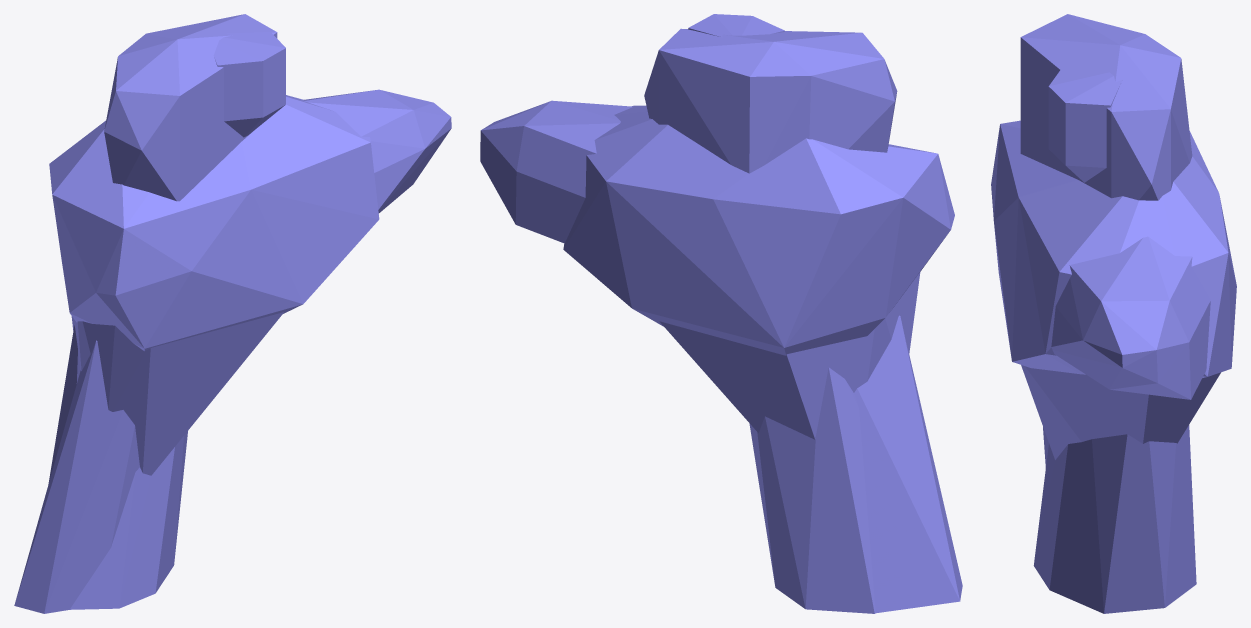
Rendered from Cliff_Spire_03_Collider_Arch_01.FBX.
3 renders of one model, left to right at view 1: azimuth 30°, elevation 25°; view 2: azimuth 150°, elevation 25°; view 3: azimuth 270°, elevation 25°, orthographic. The views are drawn at different scales.
Visible parts, largest first — view 1: COLLIDER3, COLLIDER5, COLLIDER2, COLLIDER7, COLLIDER1, COLLIDER4, COLLIDER6; view 2: COLLIDER3, COLLIDER5, COLLIDER1, COLLIDER2, COLLIDER7, COLLIDER4, COLLIDER6; view 3: COLLIDER3, COLLIDER1, COLLIDER5, COLLIDER4, COLLIDER7, COLLIDER6.
Boxes of the visible parts, <box> form: COLLIDER3: <box>49,95,379,351</box>; COLLIDER5: <box>104,14,277,201</box>; COLLIDER2: <box>14,340,139,613</box>; COLLIDER7: <box>71,312,283,475</box>; COLLIDER1: <box>48,325,187,609</box>; COLLIDER4: <box>304,89,451,213</box>; COLLIDER6: <box>213,32,285,137</box>; COLLIDER3: <box>563,105,954,355</box>; COLLIDER5: <box>644,28,897,173</box>; COLLIDER1: <box>749,367,875,613</box>; COLLIDER2: <box>854,315,962,613</box>; COLLIDER7: <box>659,272,920,439</box>; COLLIDER4: <box>480,100,633,243</box>; COLLIDER6: <box>688,14,784,37</box>; COLLIDER3: <box>991,120,1236,377</box>; COLLIDER1: <box>1033,425,1196,613</box>; COLLIDER5: <box>1020,14,1192,200</box>; COLLIDER4: <box>1051,236,1210,399</box>; COLLIDER7: <box>1021,365,1220,459</box>; COLLIDER6: <box>1048,65,1122,182</box>.
Size of the model in its own units: 534 by 589 by 228.
